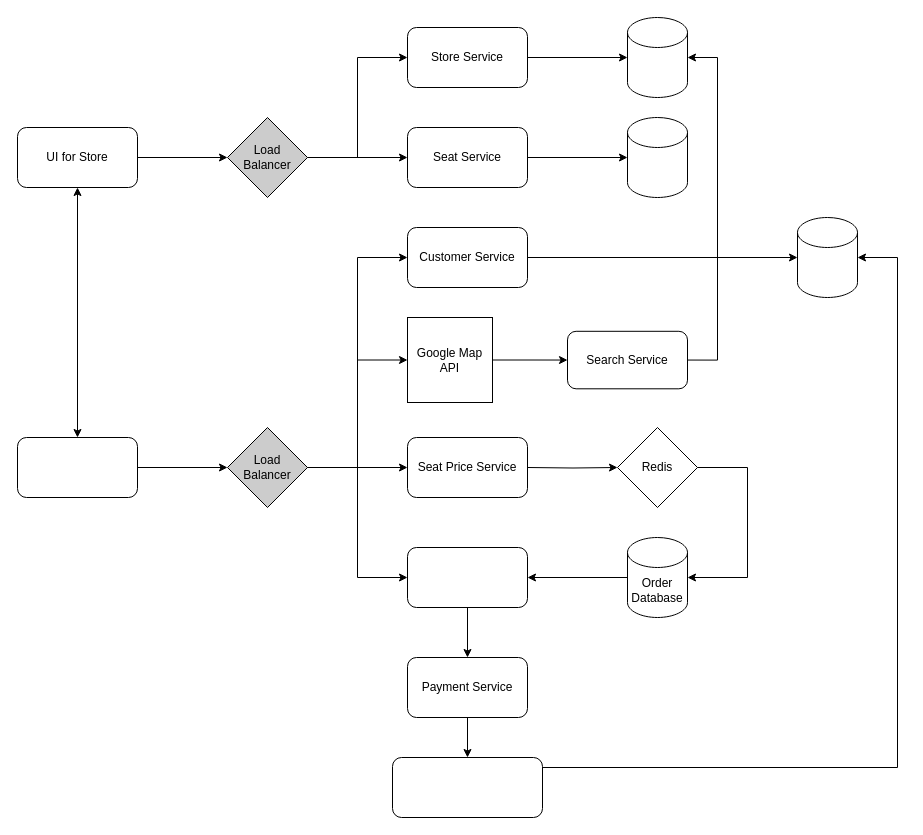
Image size: 923x835. Some labels were removed from this diagram. Each missing label, with the centre of its shape:
"Booking Management Service" goes at (x=467, y=787).
"Booking Service" goes at (x=467, y=577).
"Custom Database" goes at (x=827, y=257).
"Seat Database" goes at (x=657, y=157).
"Store Database" goes at (x=657, y=57).
"UI for Customer" goes at (x=77, y=467).
